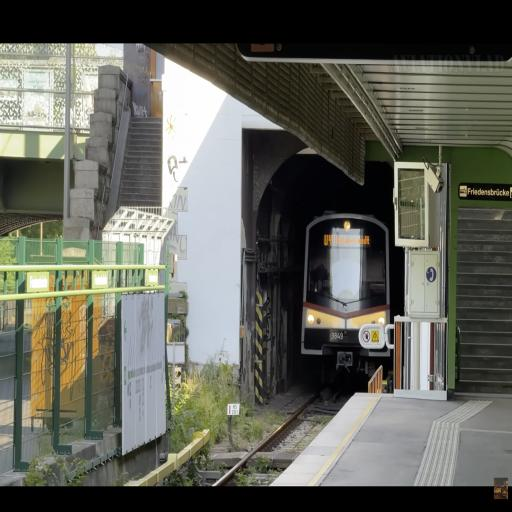V-Wagen: (301, 207, 394, 382)
